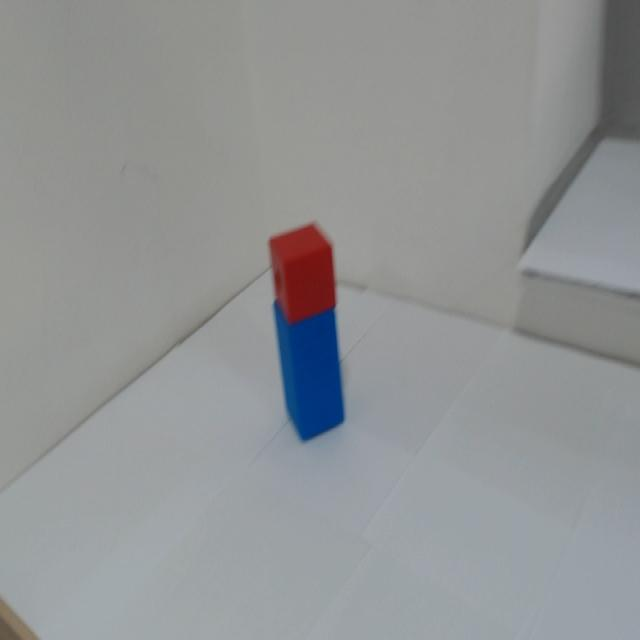cube: (257, 210, 356, 323)
